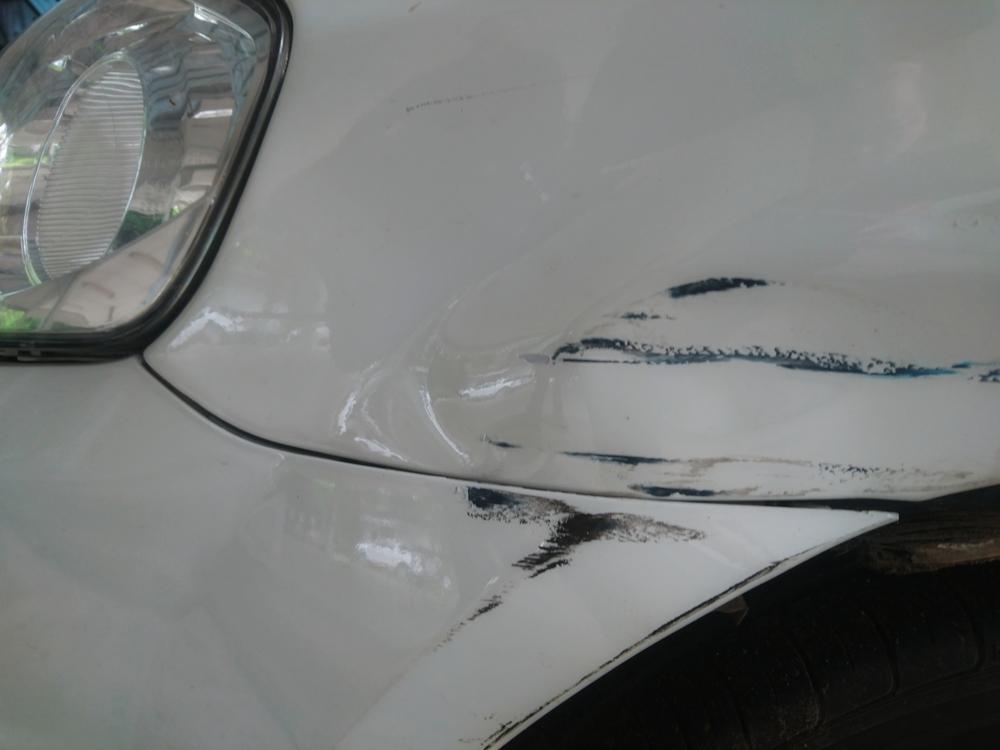dent: (191, 80, 700, 473)
scratch: (550, 261, 1000, 499), (422, 477, 717, 661)
